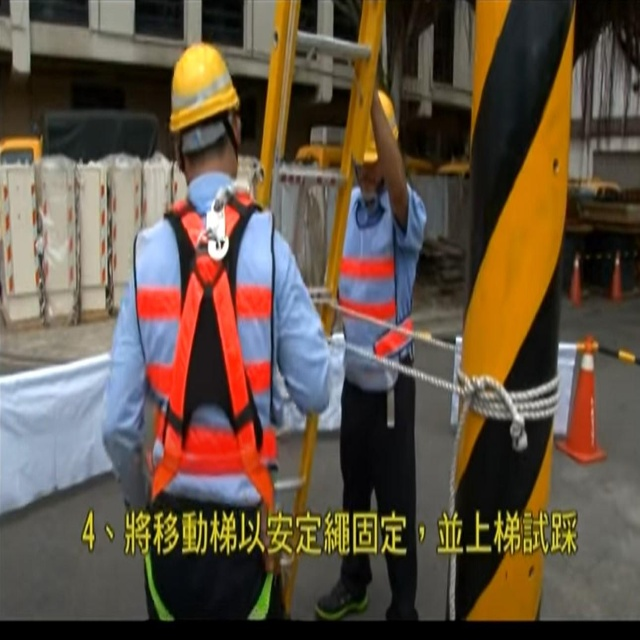Arnes_seguridad: (145, 188, 274, 623)
